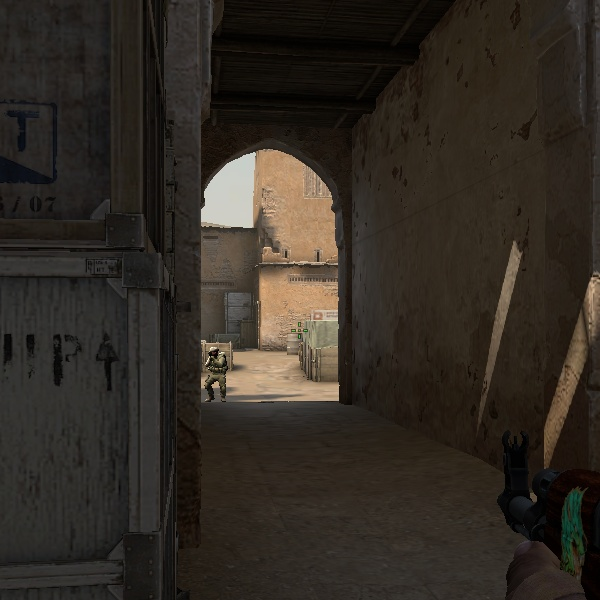ct_body: (202, 344, 231, 400)
